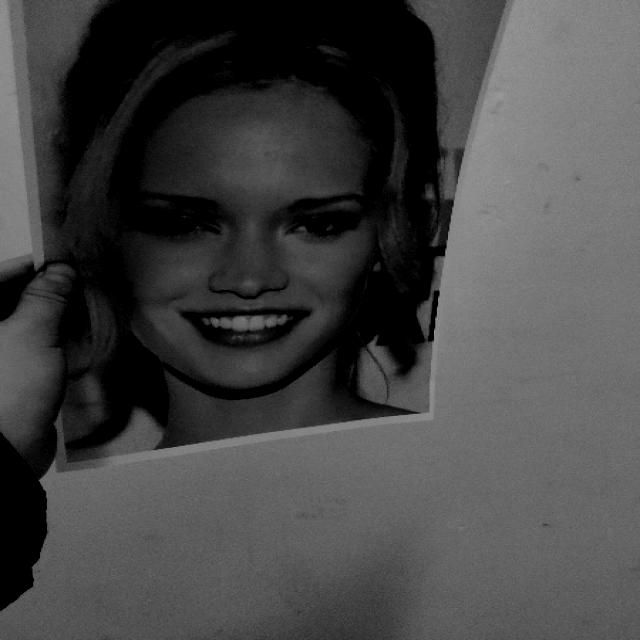fake: (64, 10, 418, 414)
